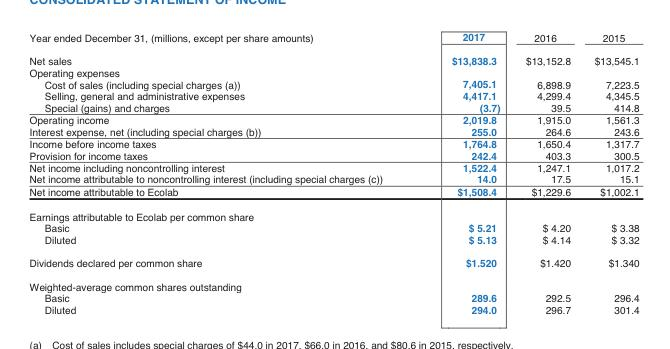table: (28, 28, 638, 317)
table column: (28, 28, 416, 317), (416, 28, 512, 317), (512, 28, 581, 317), (581, 28, 638, 317)
table column header: (28, 28, 638, 48)
table projected row header: (28, 204, 638, 222), (28, 274, 638, 291), (28, 67, 638, 78)
table row: (28, 251, 638, 274), (28, 28, 638, 48), (28, 48, 638, 67), (28, 185, 638, 204), (28, 204, 638, 222), (28, 233, 638, 251), (28, 274, 638, 291), (28, 303, 638, 317), (28, 89, 638, 101), (28, 101, 638, 113), (28, 113, 638, 125), (28, 125, 638, 137), (28, 137, 638, 149), (28, 149, 638, 161), (28, 161, 638, 173), (28, 173, 638, 185), (28, 291, 638, 303), (28, 67, 638, 78), (28, 78, 638, 89), (28, 222, 638, 233)
